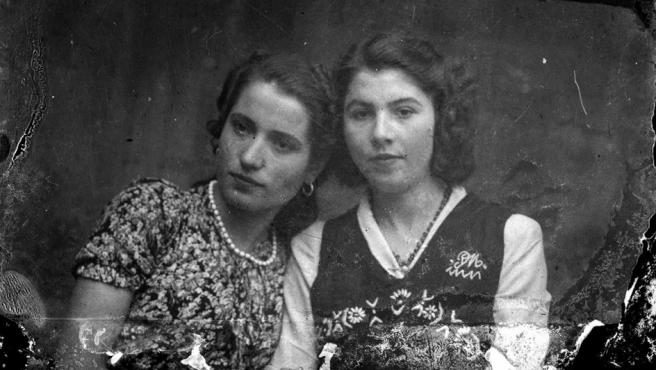person: (109, 15, 322, 277), (316, 30, 510, 288)
